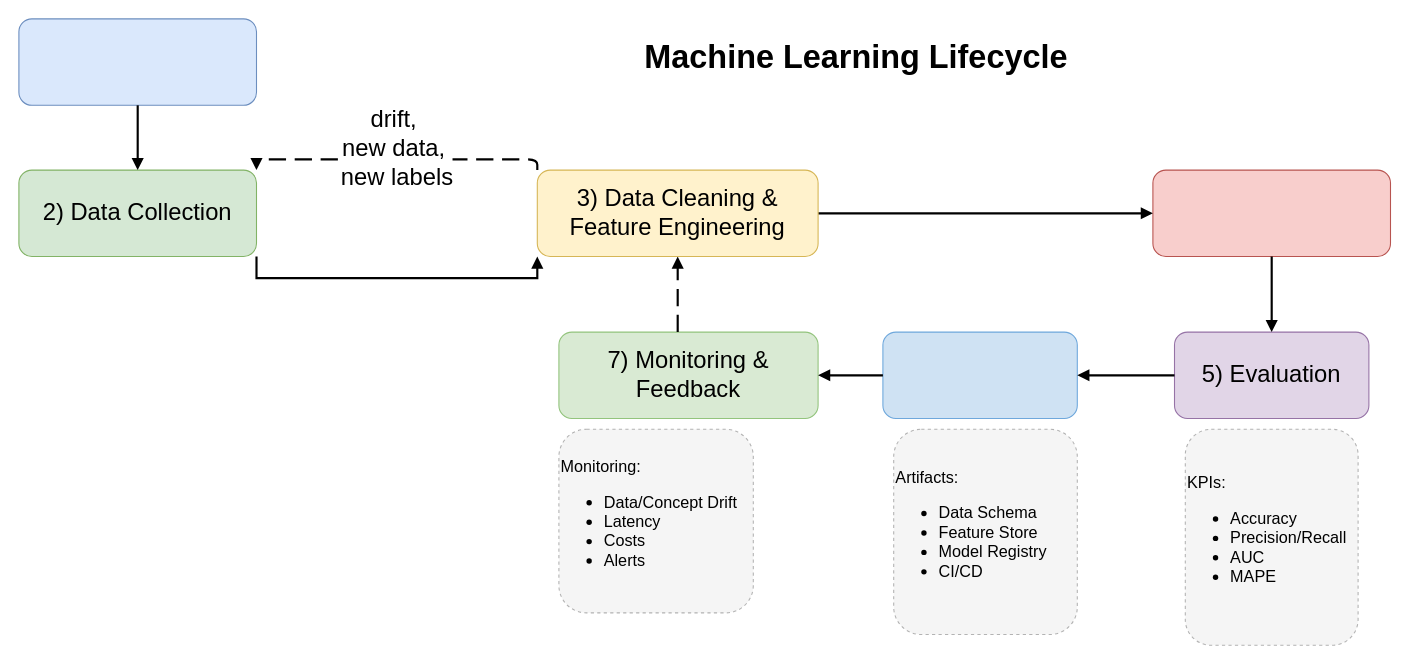
The diagram is 1409 pixels wide and 664 high, and some of its shapes have lost their labels. The centre of each missing label's shape, as x and y in pixels:
"1) Business Understanding" belongs at (x=137, y=61).
"4) Modeling / Training" belongs at (x=1271, y=212).
"6) Deployment" belongs at (x=979, y=374).
